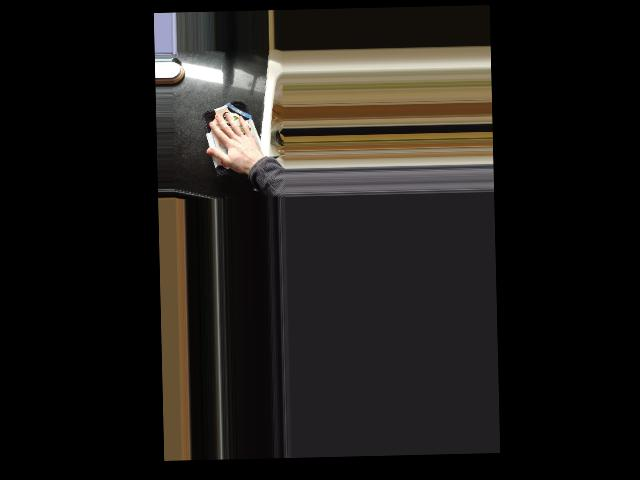cheese: (200, 98, 268, 176)
